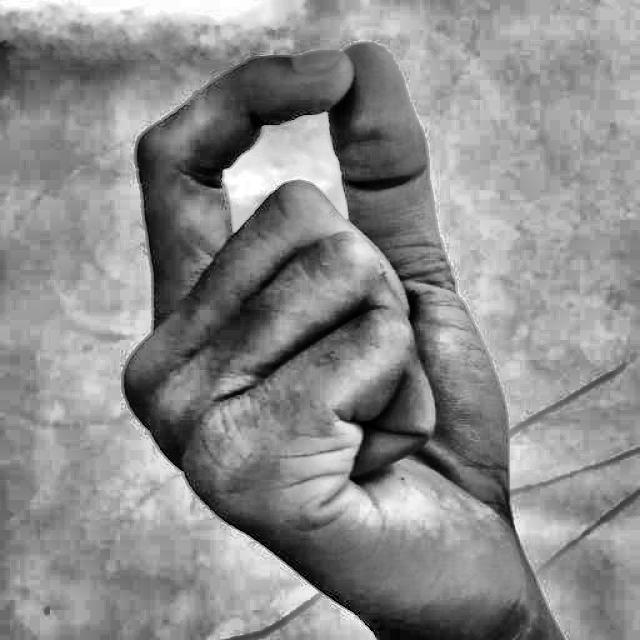Gha: (82, 29, 590, 640)
